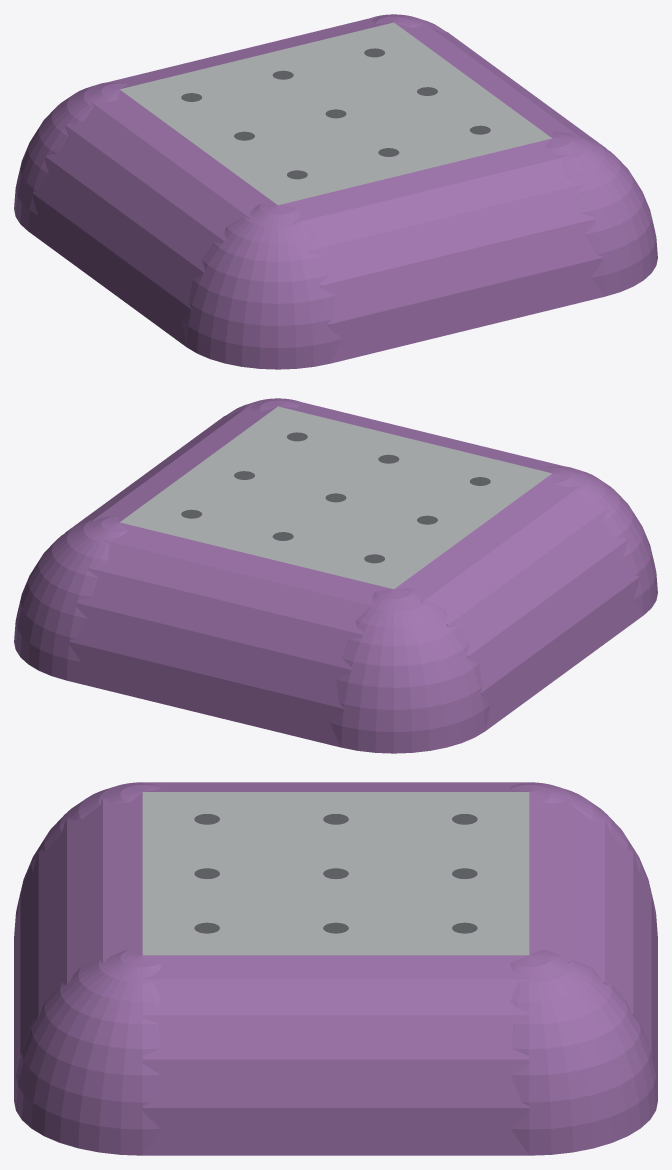
The model's file is spike_tower.glb.
3 views of the same model, one above another, from view 1: azimuth 30°, elevation 25°; view 2: azimuth 150°, elevation 25°; view 3: azimuth 270°, elevation 25° (orthographic). The views are drawn at different scales.
Parts seen in each view (by area): view 1: Mesh_Mesh_head_geo.001_lambert2SG.001; view 2: Mesh_Mesh_head_geo.001_lambert2SG.001; view 3: Mesh_Mesh_head_geo.001_lambert2SG.001.
Boxes of the visible parts, x1,y1,x2,y2 form: Mesh_Mesh_head_geo.001_lambert2SG.001: (14, 14, 657, 369); Mesh_Mesh_head_geo.001_lambert2SG.001: (14, 398, 657, 753); Mesh_Mesh_head_geo.001_lambert2SG.001: (14, 782, 657, 1155).
Size of the model in its own units: 100 by 25 by 100.
